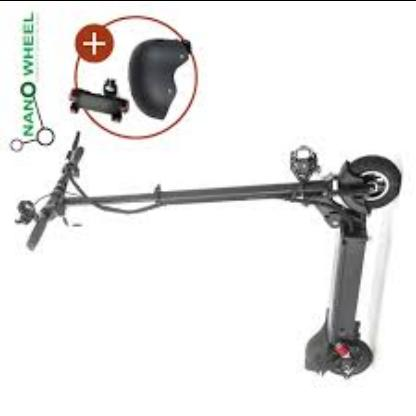bike: (3, 142, 403, 382)
